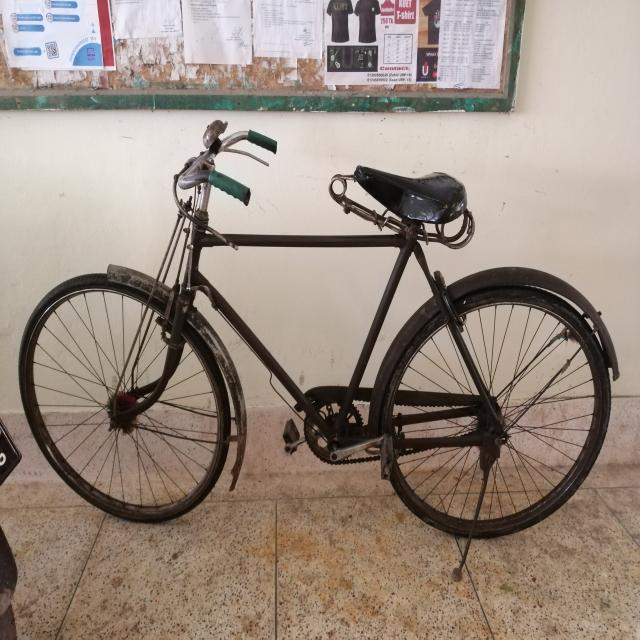Bicycle: (15, 124, 634, 585)
